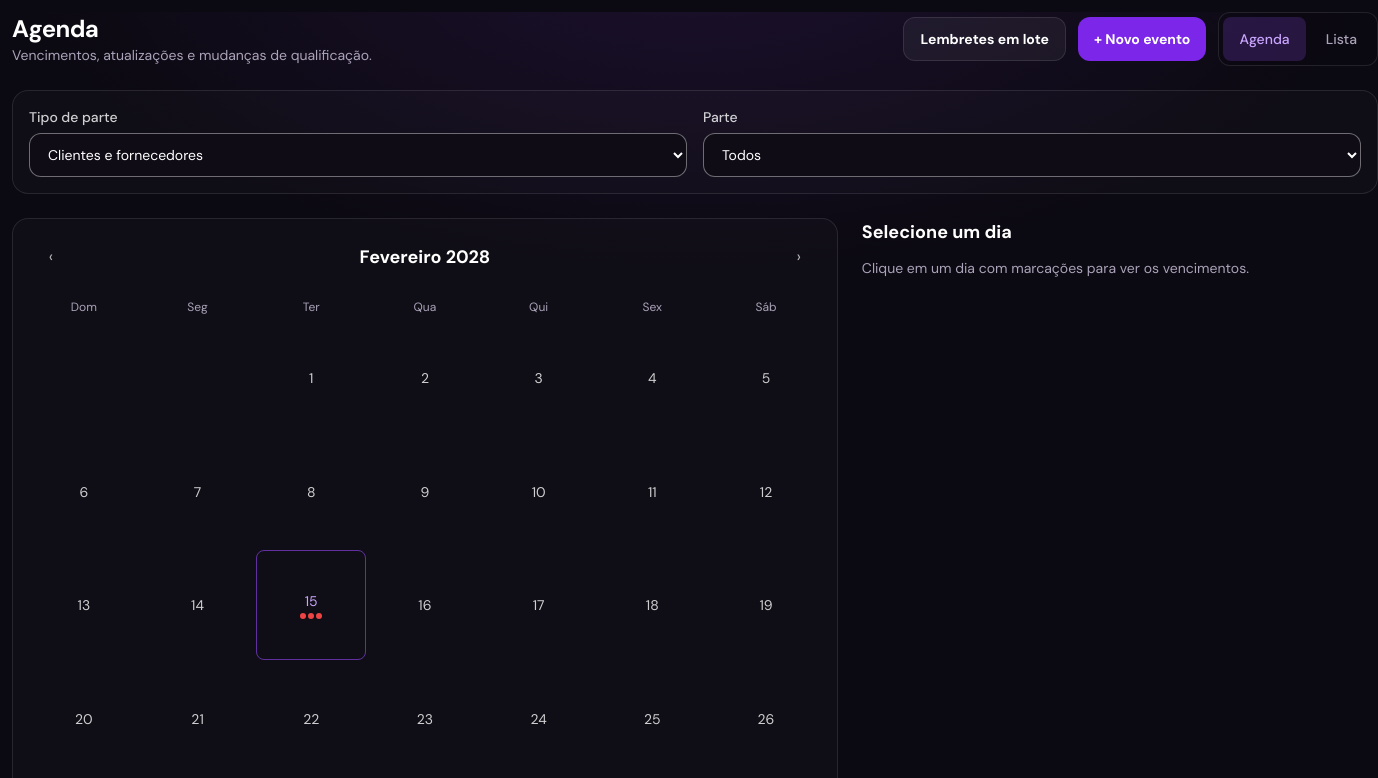
agenda: filtros e criação/edição (Issue #10) › ao mudar o tipo de parte, descarta a parte selecionada incompatível
Click the button "Lista" at (1341, 39), box [1310,17,1373,61]
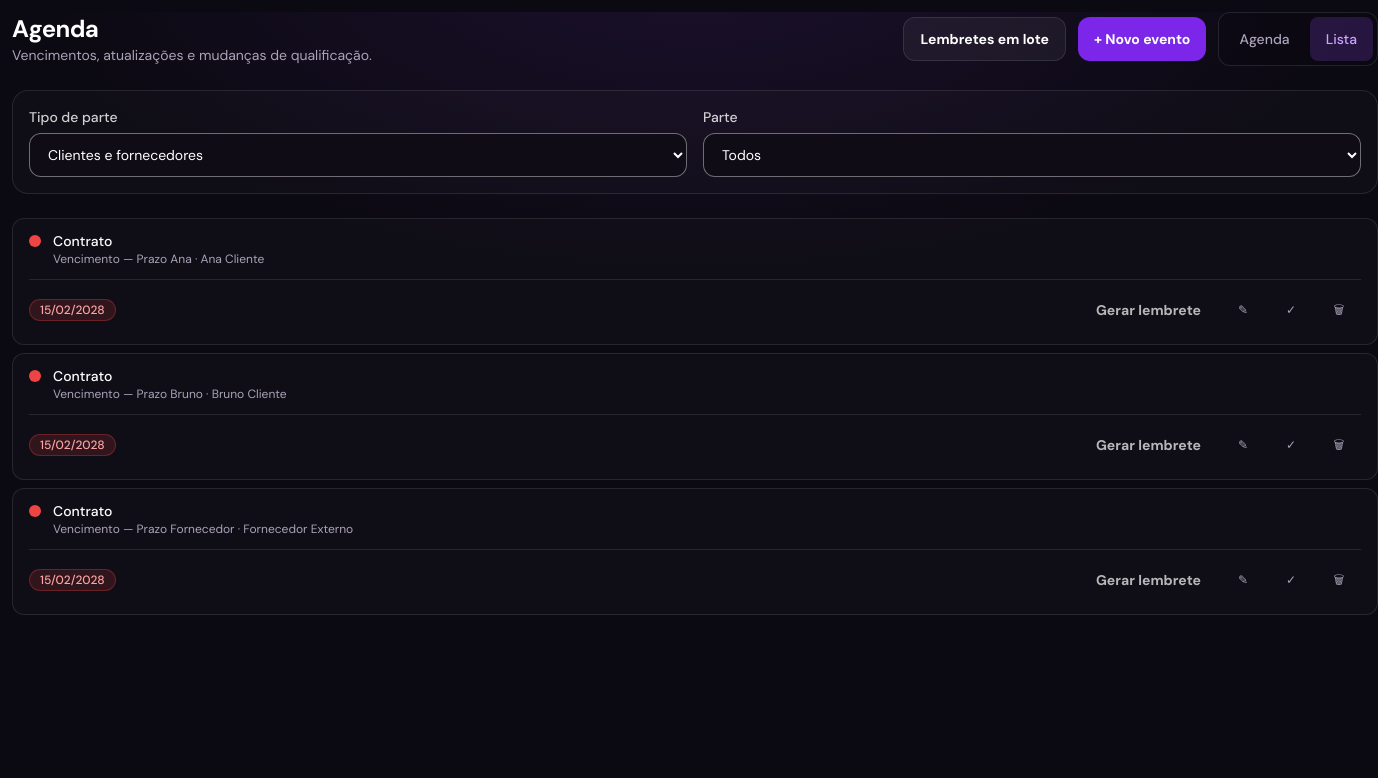
Select "Fornecedor Externo" in the dropdown labelled "Parte" at (1032, 155), box [703,133,1361,177]
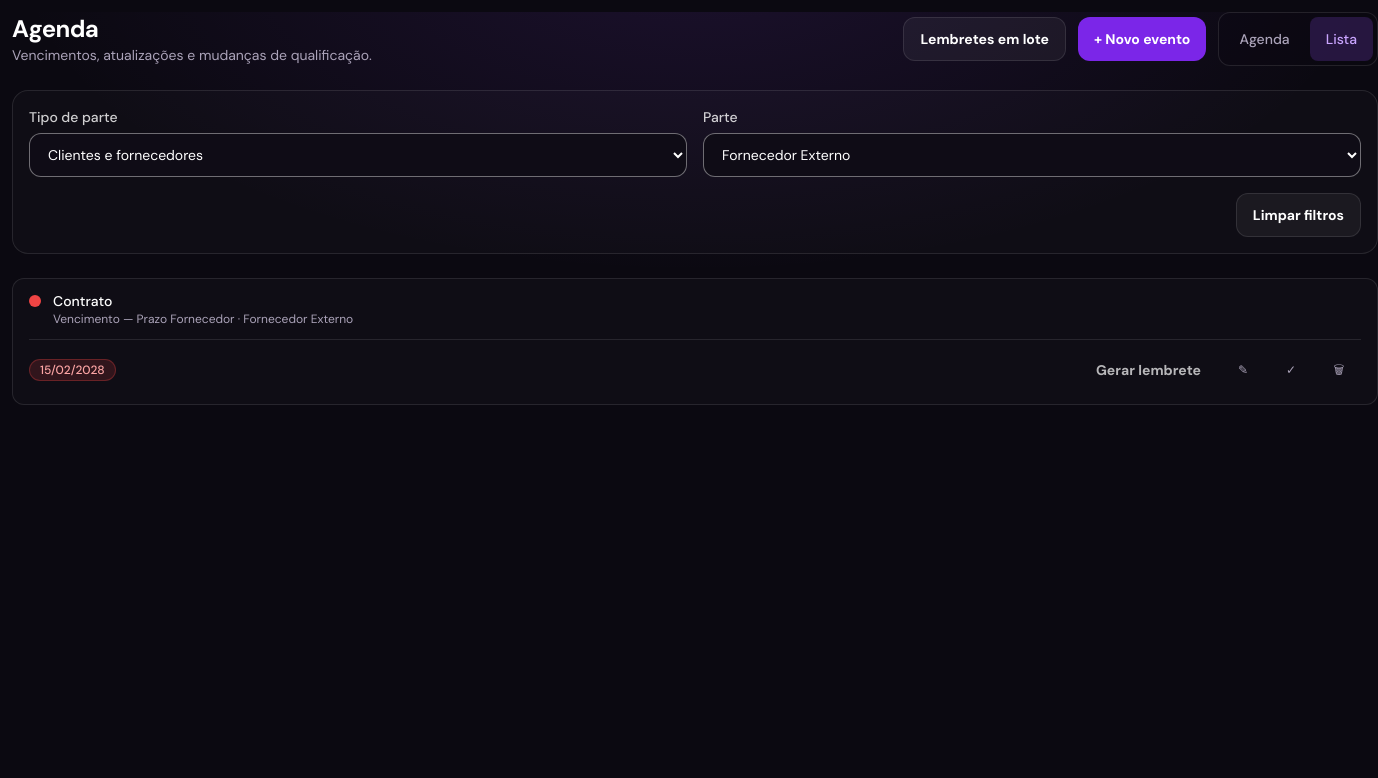
Result: the text "Prazo Ana" is gone
Select "Clientes" in the dropdown labelled "Tipo de parte" at (358, 155), box [29,133,687,177]
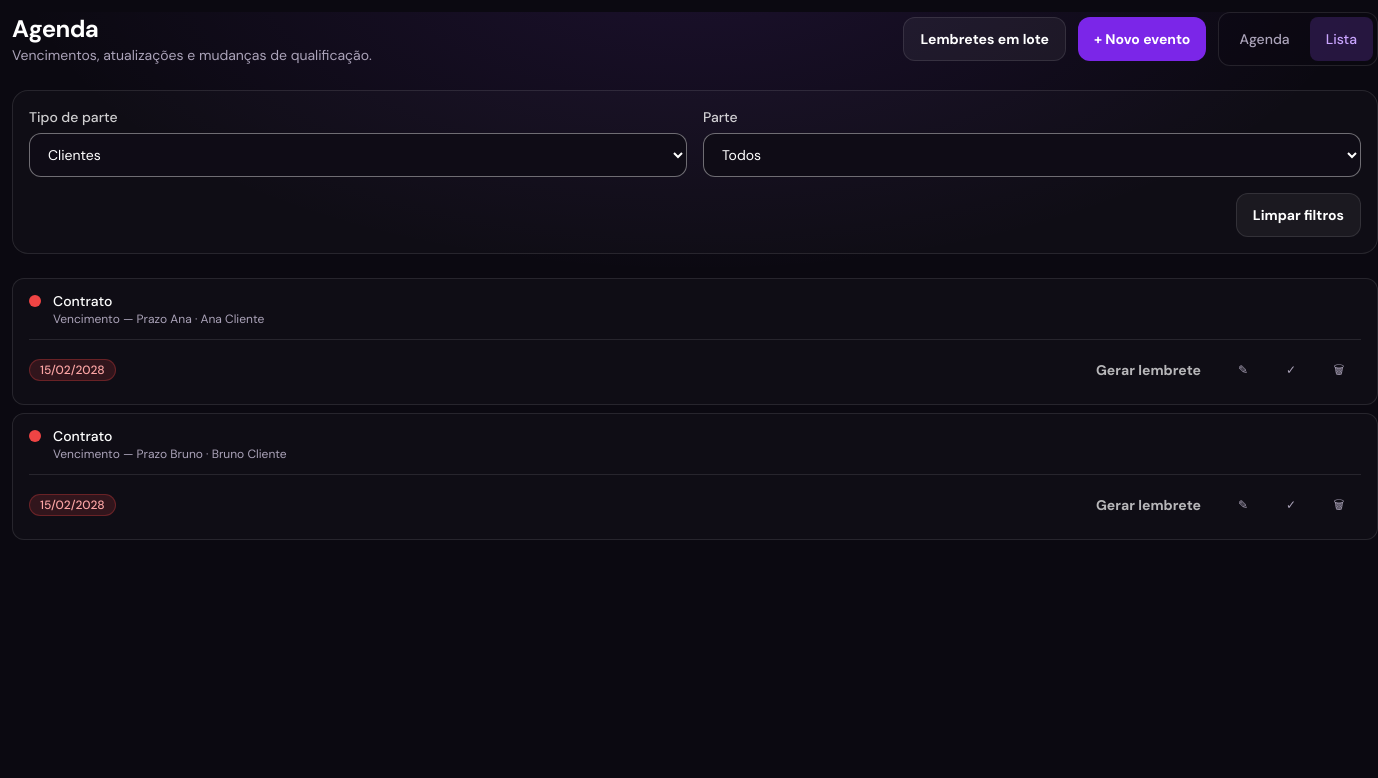
Result: the text "Vencimento — Prazo Ana · Ana Cliente" is shown at [53,311,264,327]
Result: the text "Vencimento — Prazo Bruno · Bruno Cliente" is shown at [53,446,287,462]
Result: the text "Prazo Fornecedor" is gone
